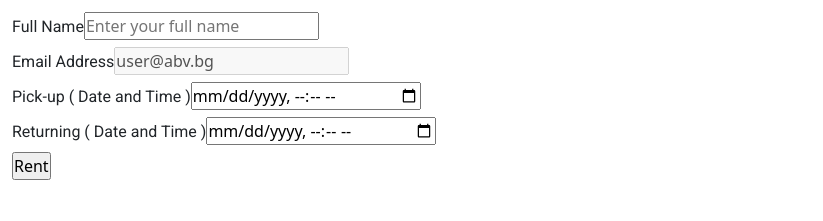
Test case: RentForm Component › shows error messages for invalid pick-up date and time
This screenshot has width=823, height=221.
Type "John Smith" into the field named "fullName".
click(201, 26); type("John Smith")  # box [84,12,319,40]
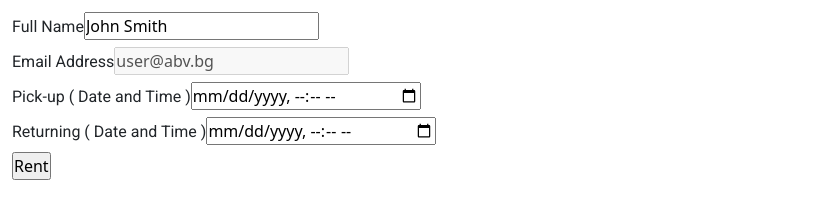
Type "2023-03-30T12:00" into the field named "pickUpDateAndTime" next to "Pick-up ( Date and Time )".
click(306, 96); type("2023-03-30T12:00")  # box [191,82,421,110]
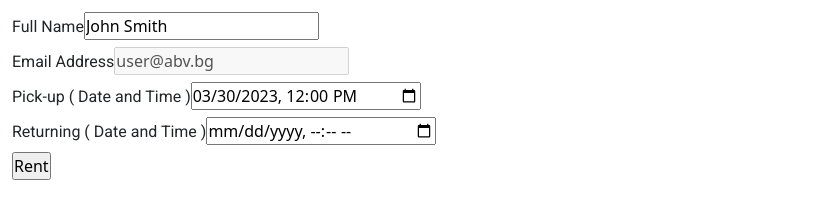
Type "2024-04-03T12:00" into the field named "returningDateAndTime" next to "Returning ( Date and Time )".
click(321, 131); type("2024-04-03T12:00")  # box [206,117,436,145]
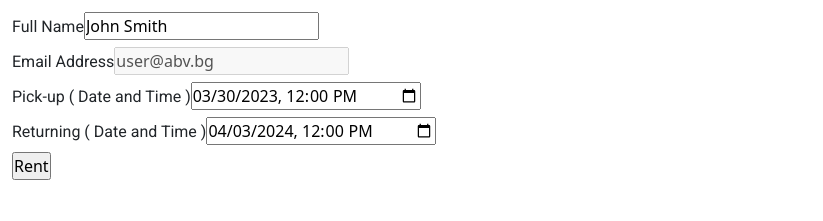
Click the button with class "rent-btn".
click(31, 166)  # box [12,152,51,180]
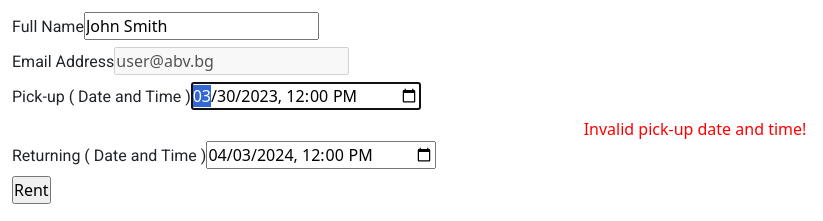
Result: the text "Invalid pick-up date and time!" is shown at [584,118,806,140]
